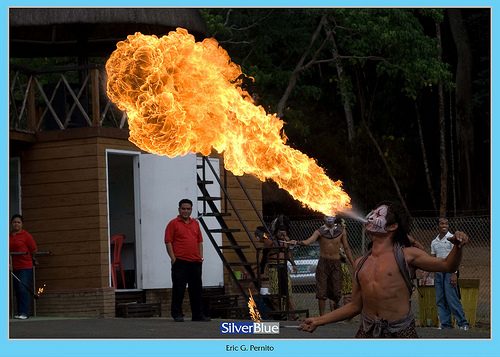fire: (101, 25, 352, 215)
